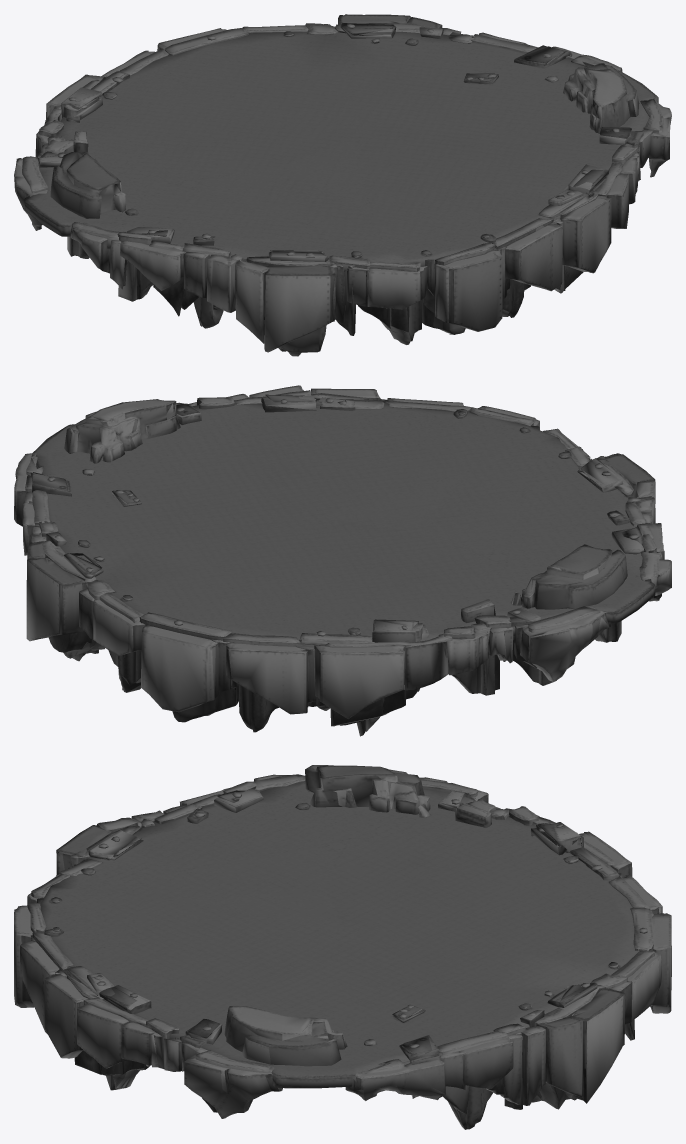
File: iron-island.glb
3 views of the same model, one above another, from view 1: azimuth 30°, elevation 25°; view 2: azimuth 150°, elevation 25°; view 3: azimuth 270°, elevation 25° (orthographic). The views are drawn at different scales.
Size of the model in its own units: 0.9546 by 0.1982 by 0.8623.
Materials: 1 (1 with a texture image).
